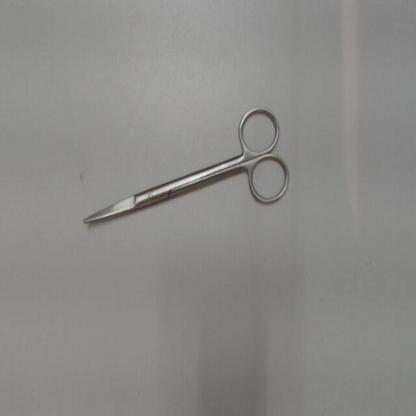Curved Mayo Scissors: (78, 98, 296, 230)
